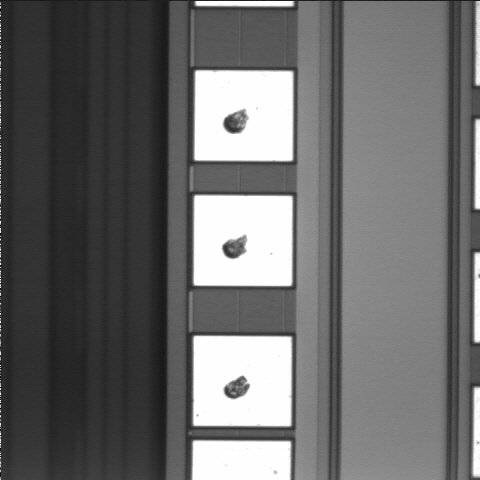pad: (194, 195, 292, 286), (193, 336, 292, 426), (195, 71, 293, 161)
